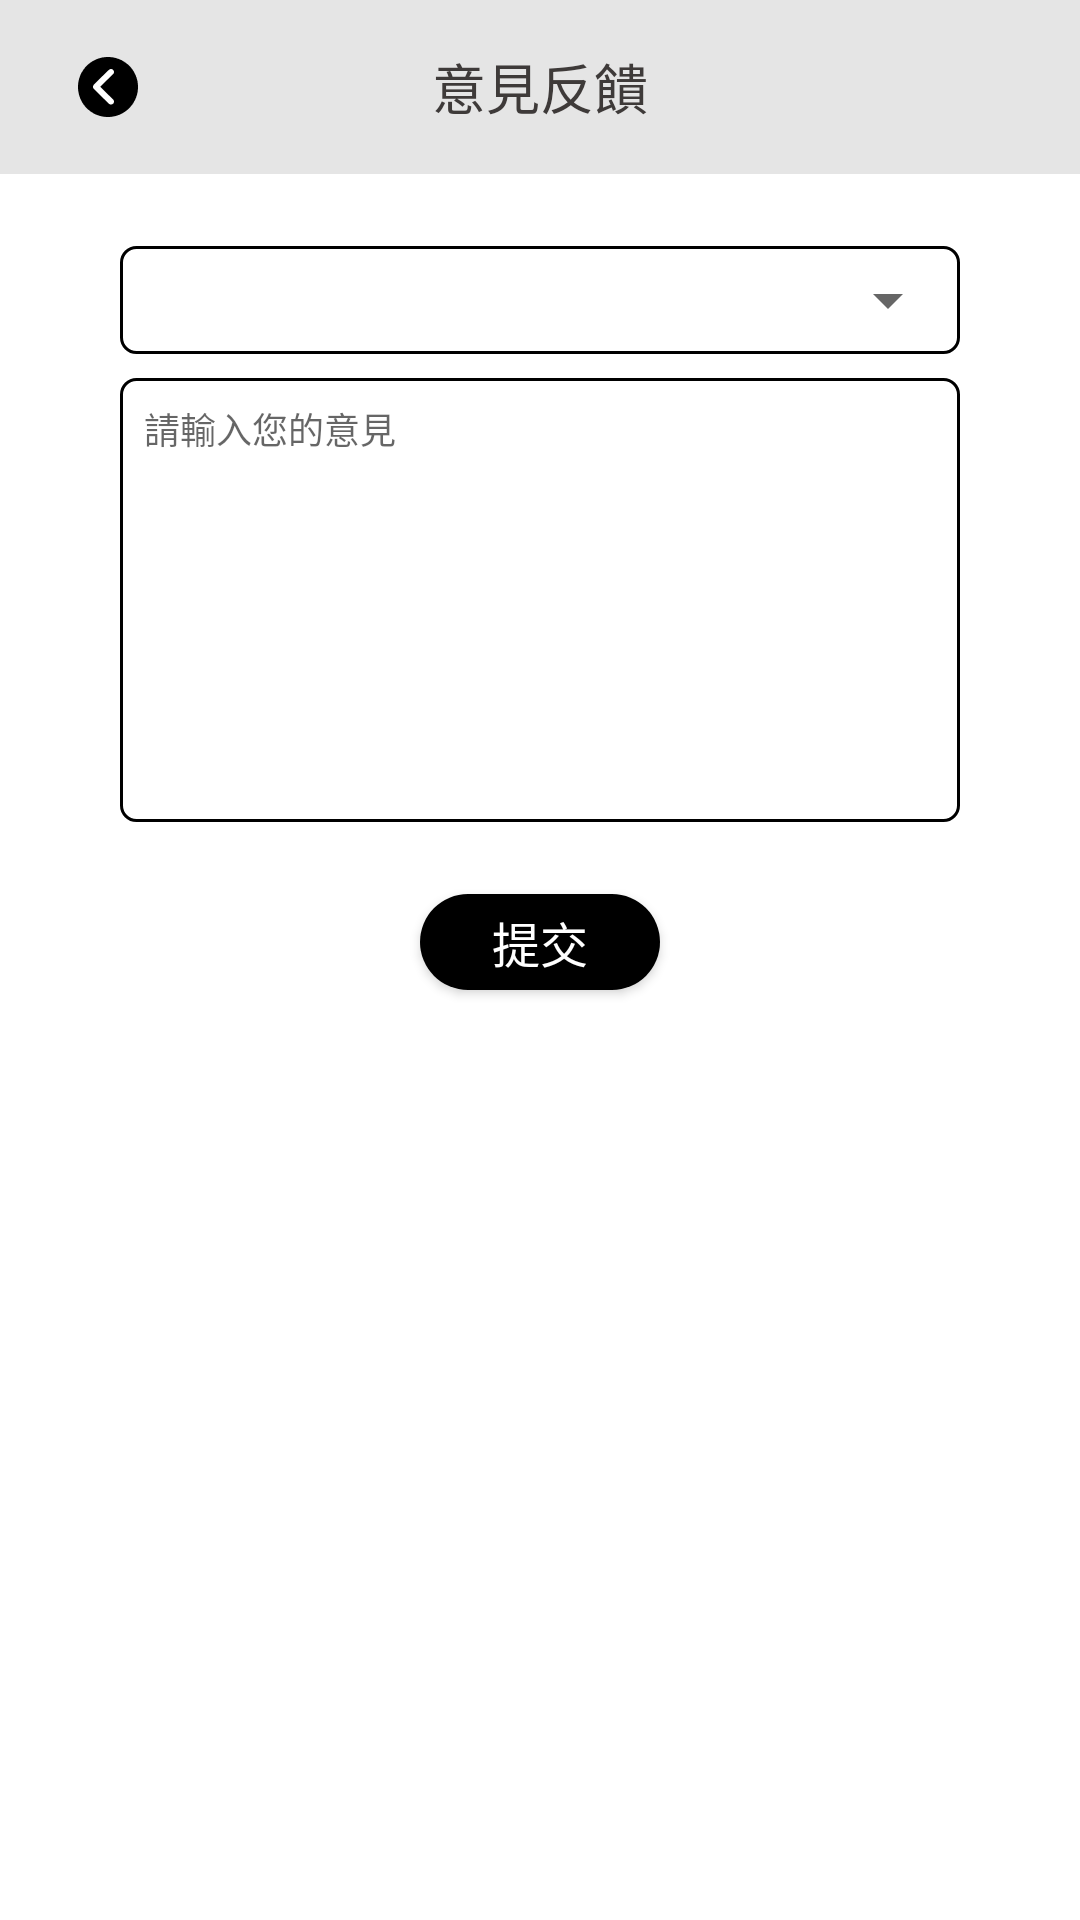

Icons on this 1080 x 1920 Android screen, each with its box as (x1, y1, x2, y2):
back: (78, 57, 138, 117)
